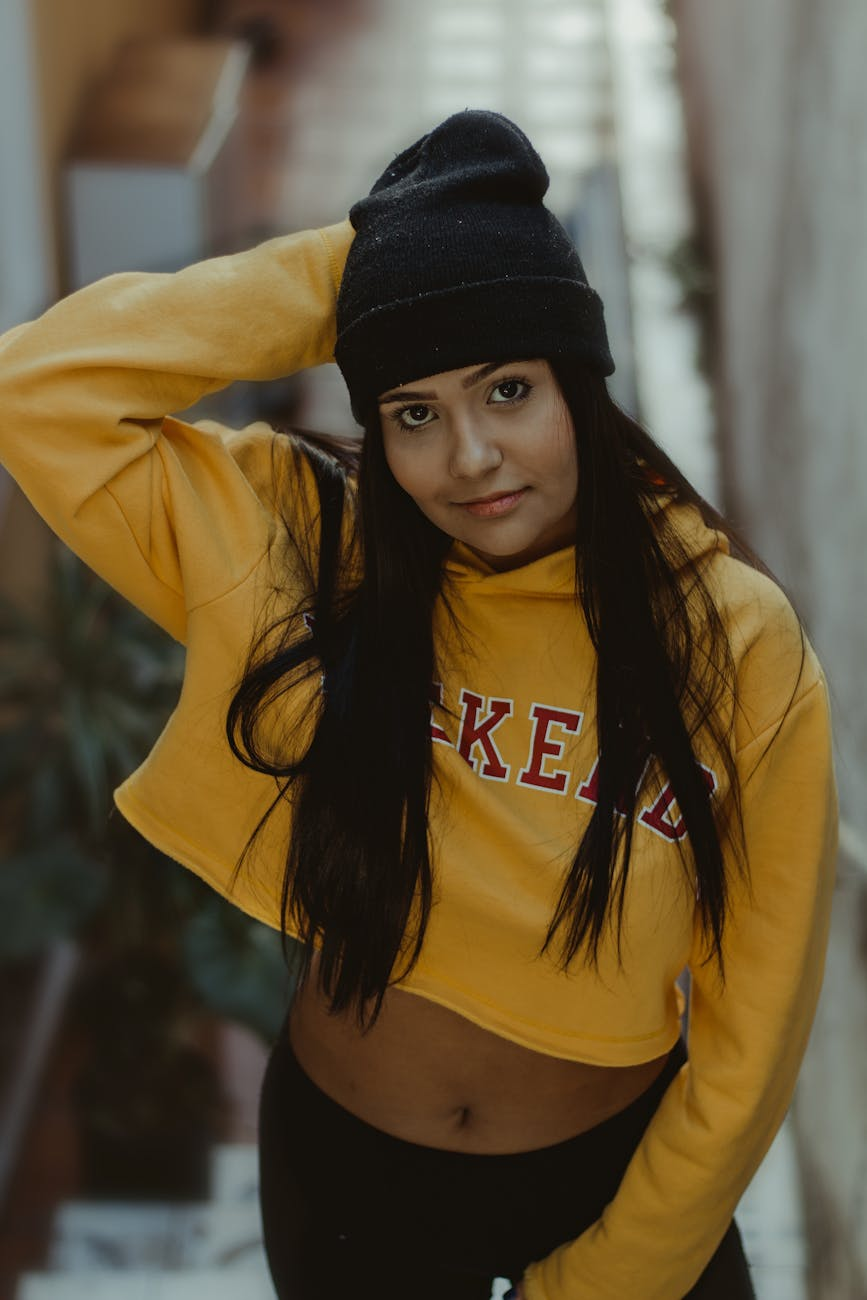crop_top: (200, 538, 797, 1078)
